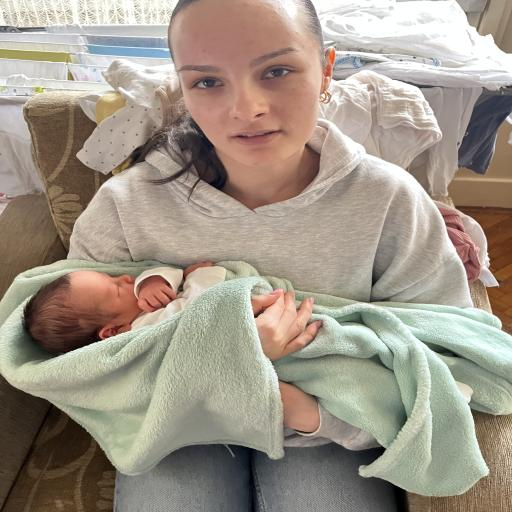marija: (166, 1, 337, 168)
